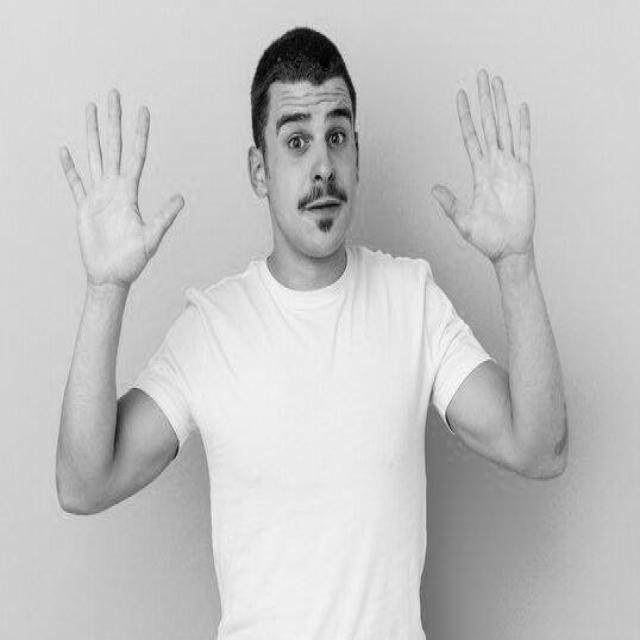stop: (55, 82, 188, 300), (428, 62, 541, 271)
